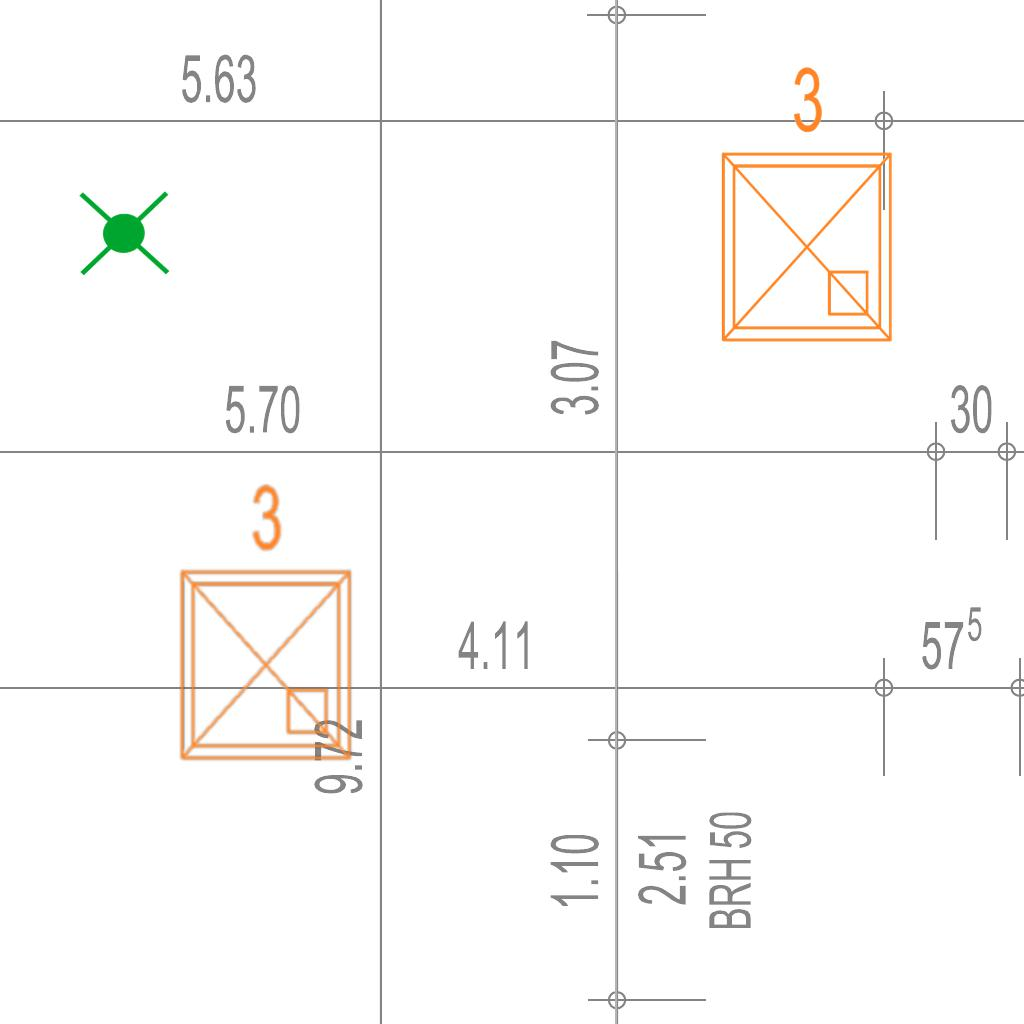Einbaudownlights_LED_Konferenzraeume: (699, 56, 907, 356), (158, 474, 366, 774)
Notlichtbaustein_in_Allgemeinbeleuchtug_engebaut_Einbau_(1UG_und_2UG_Aufbauvaria: (74, 183, 174, 286)
